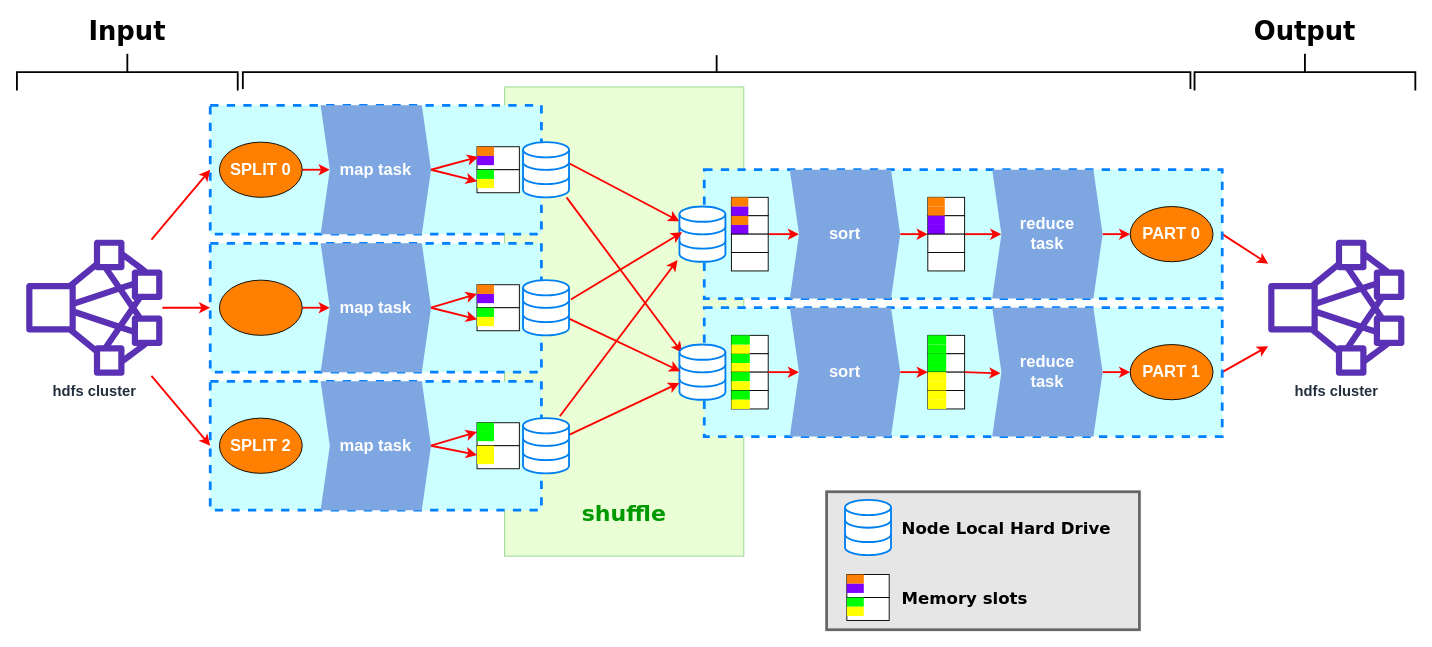
Some shapes in this 1432 by 647 pixel diagram are drawn without their labels. The centre of each missing label's shape, as x and y in pixels:
"MapReduce" belongs at pixel 716 72.
"SPLIT 1" belongs at pixel 260 307.
